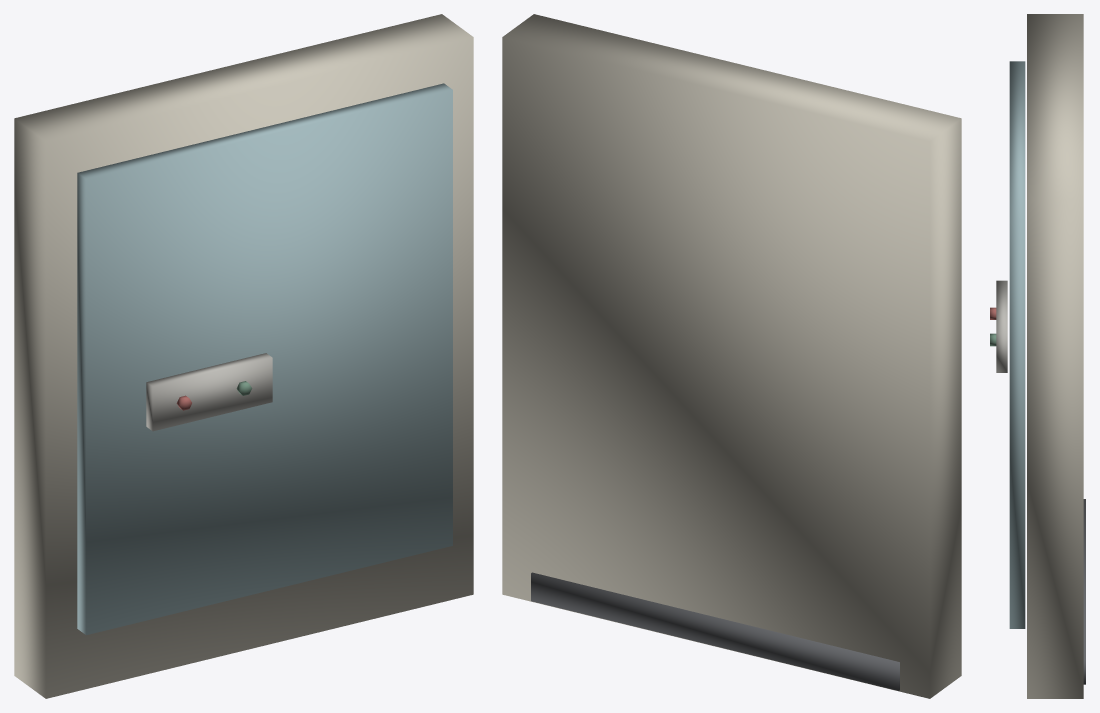
Rendered from x_ray_lightbox__reinforced.glb.
The picture shows the model from 3 angles, left to right: view 1: azimuth 30°, elevation 25°; view 2: azimuth 150°, elevation 25°; view 3: azimuth 270°, elevation 25°; orthographic projection. The views are drawn at different scales.
Visible parts, largest first — view 1: world; view 2: world; view 3: world.
Boxes of the visible parts, x1,y1,x2,y2 form: world: (14, 14, 473, 698); world: (502, 14, 961, 698); world: (990, 14, 1085, 698).
Size of the model in its own units: 0.721 by 0.8976 by 0.1565.
